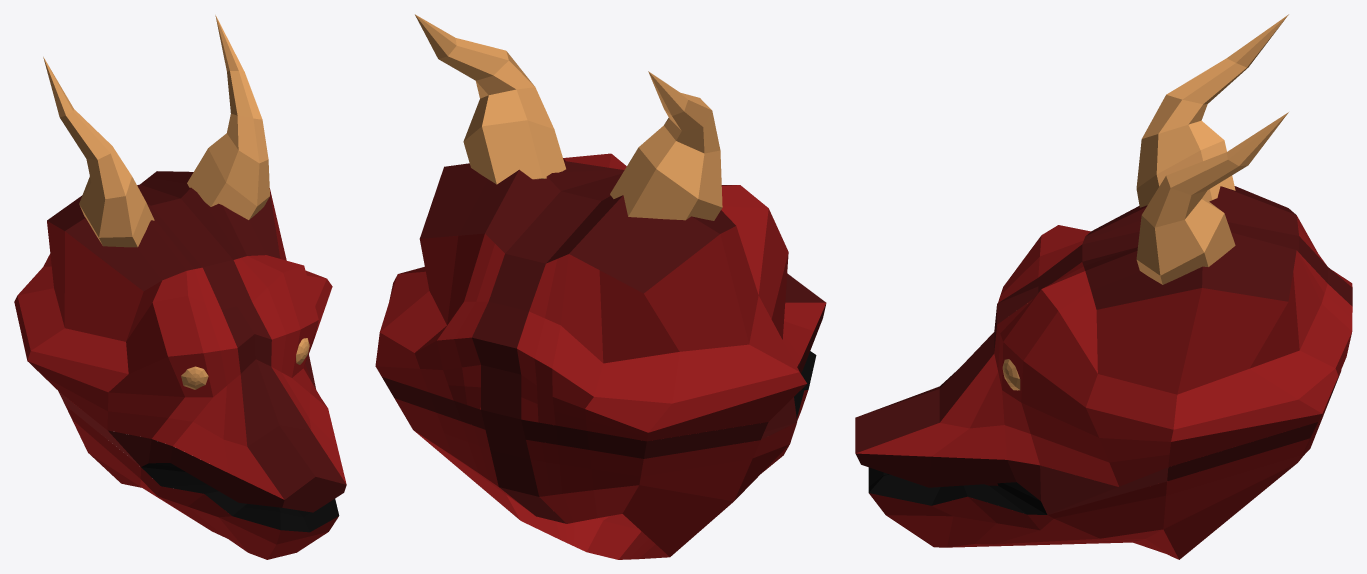
Rendered from dragon_helmet.gltf.
3 renders of one model, left to right at view 1: azimuth 30°, elevation 25°; view 2: azimuth 150°, elevation 25°; view 3: azimuth 270°, elevation 25°, orthographic. The views are drawn at different scales.
Visible parts, largest first — view 1: dragon_helmet; view 2: dragon_helmet; view 3: dragon_helmet.
Boxes of the visible parts, x1=… form: dragon_helmet: x1=14, y1=15, x2=346, y2=559; dragon_helmet: x1=375, y1=14, x2=826, y2=559; dragon_helmet: x1=855, y1=14, x2=1352, y2=559.
Bounding box in the file's own units: 0.6694 × 0.8737 × 0.8118.
